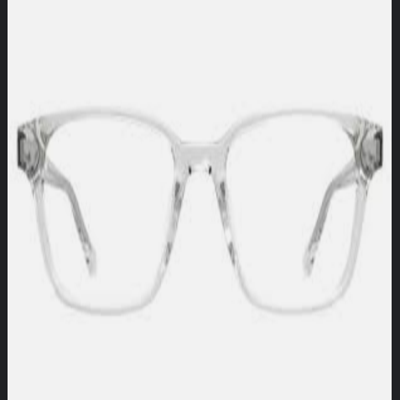glasses: (15, 106, 385, 323)
